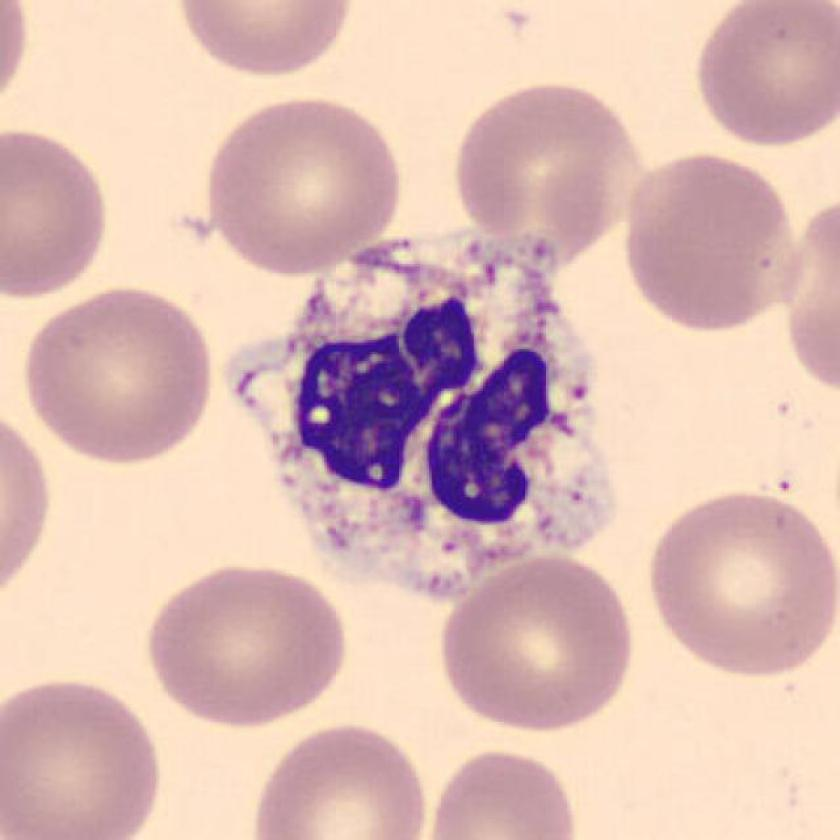neutrophil: (233, 232, 610, 602)
